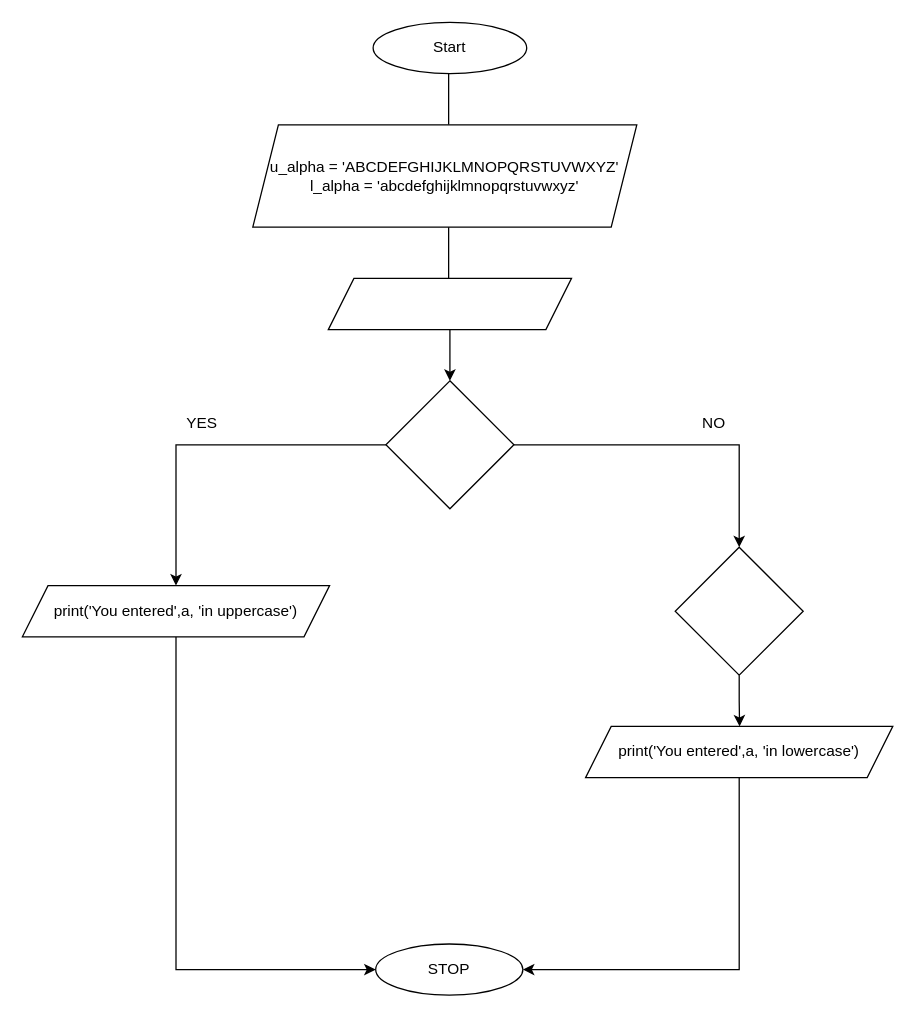
This 915x1018 diagram has some shape labels left out. The centre of each missing label's shape, as x and y in pixels:
if a in l_alpha: point 738,610
if a in u_alpha: point 449,444
input("Enter any character:"): point 449,303
